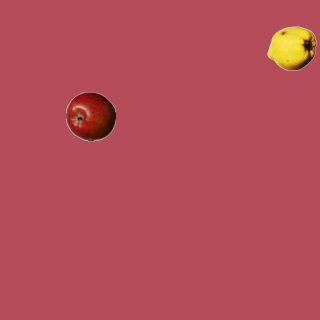Apple Braeburn: (65, 91, 115, 141)
Quince: (266, 23, 316, 73)
